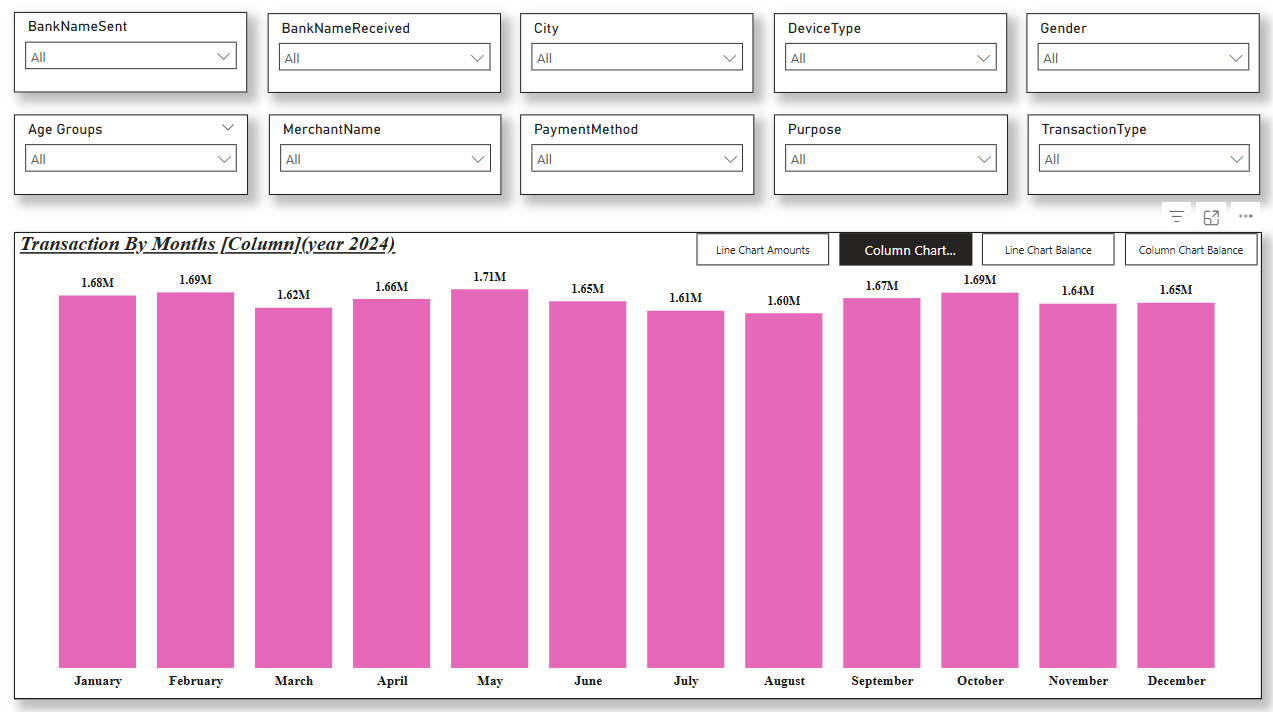

Layout of this report page (visuals, bound fields, positions):
{"tool":"powerbi","page":{"name":"Page 1","canvas":[1280,720],"ordinal":0},"visuals":[{"type":"slicer","fields":{"Values":["UPI Transaction.BankNameSent"]},"box":[20,20,232,80],"z":0},{"type":"slicer","fields":{"Values":["UPI Transaction.BankNameReceived"]},"box":[272,20.6,232,79.6],"z":1000},{"type":"slicer","fields":{"Values":["UPI Transaction.City"]},"box":[524,20.6,232,79.6],"z":2000},{"type":"slicer","fields":{"Values":["UPI Transaction.DeviceType"]},"box":[776,20.6,232,79.6],"z":3000},{"type":"slicer","fields":{"Values":["UPI Transaction.Gender"]},"box":[1028,20.6,232,79.6],"z":4000},{"type":"slicer","fields":{"Values":["UPI Transaction.Age Groups"]},"box":[19.9,121.9,232.6,79.6],"z":5000},{"type":"slicer","fields":{"Values":["UPI Transaction.MerchantName"]},"box":[273.7,121.9,231.4,79.6],"z":6000},{"type":"slicer","fields":{"Values":["UPI Transaction.PaymentMethod"]},"box":[523.7,121.9,232.6,79.6],"z":7000},{"type":"slicer","fields":{"Values":["UPI Transaction.Purpose"]},"box":[776.2,121.9,232.6,79.6],"z":8000},{"type":"slicer","fields":{"Values":["UPI Transaction.TransactionType"]},"box":[1028.8,121.9,231.4,79.6],"z":9000},{"type":"columnChart","title":"Transaction By Months [Column](year 2024)","fields":{"Category":["UPI Transaction.TransactionDate.Variation.Date Hierarchy.Month"],"Y":["Sum(UPI Transaction.Amount)"]},"box":[19.9,238.8,1241.5,465.2],"z":11000},{"type":"bookmarkNavigator","box":[699.1,240.1,561,32.3],"z":14500}]}

Visuals, with their boxes in screenshot pixels (x1, y1, x2, y2), scaled from the page's 1280x720 canvas onto the 1273x712 screenshot:
slicer - UPI Transaction.BankNameSent: x1=20, y1=20, x2=251, y2=99
slicer - UPI Transaction.BankNameReceived: x1=271, y1=20, x2=501, y2=99
slicer - UPI Transaction.City: x1=521, y1=20, x2=752, y2=99
slicer - UPI Transaction.DeviceType: x1=772, y1=20, x2=1002, y2=99
slicer - UPI Transaction.Gender: x1=1022, y1=20, x2=1253, y2=99
slicer - UPI Transaction.Age Groups: x1=20, y1=121, x2=251, y2=199
slicer - UPI Transaction.MerchantName: x1=272, y1=121, x2=502, y2=199
slicer - UPI Transaction.PaymentMethod: x1=521, y1=121, x2=752, y2=199
slicer - UPI Transaction.Purpose: x1=772, y1=121, x2=1003, y2=199
slicer - UPI Transaction.TransactionType: x1=1023, y1=121, x2=1253, y2=199
"Transaction By Months [Column](year 2024)" columnChart: x1=20, y1=236, x2=1255, y2=696
bookmarkNavigator: x1=695, y1=237, x2=1253, y2=269
